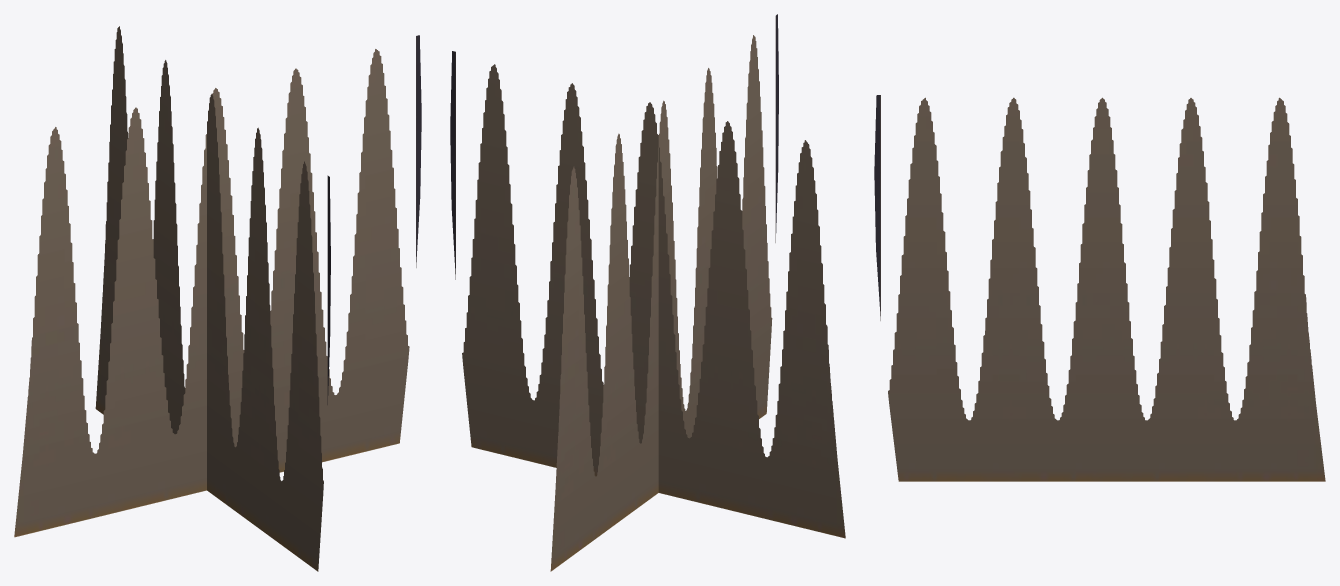
The model's file is grass_tuft_b.glb.
3 renders of one model, left to right at view 1: azimuth 30°, elevation 25°; view 2: azimuth 150°, elevation 25°; view 3: azimuth 270°, elevation 25°, orthographic. The views are drawn at different scales.
Visible parts, largest first — view 1: lod0; view 2: lod0; view 3: lod0.
Boxes of the visible parts, x1=… form: lod0: x1=14, y1=26, x2=421, y2=571; lod0: x1=450, y1=14, x2=845, y2=571; lod0: x1=874, y1=95, x2=1325, y2=481.
Size of the model in its own units: 0.74 by 0.7 by 0.74.
1 material, 1 textured.
